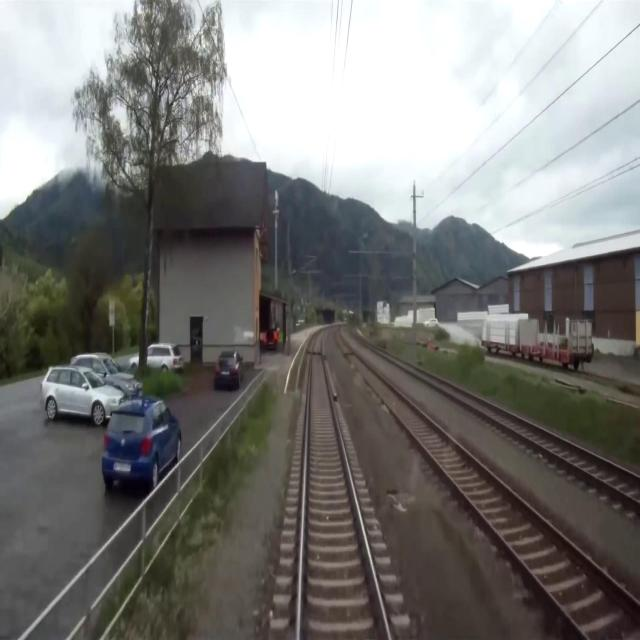rail-track: (336, 330, 640, 639), (411, 367, 640, 498), (301, 334, 387, 639)
